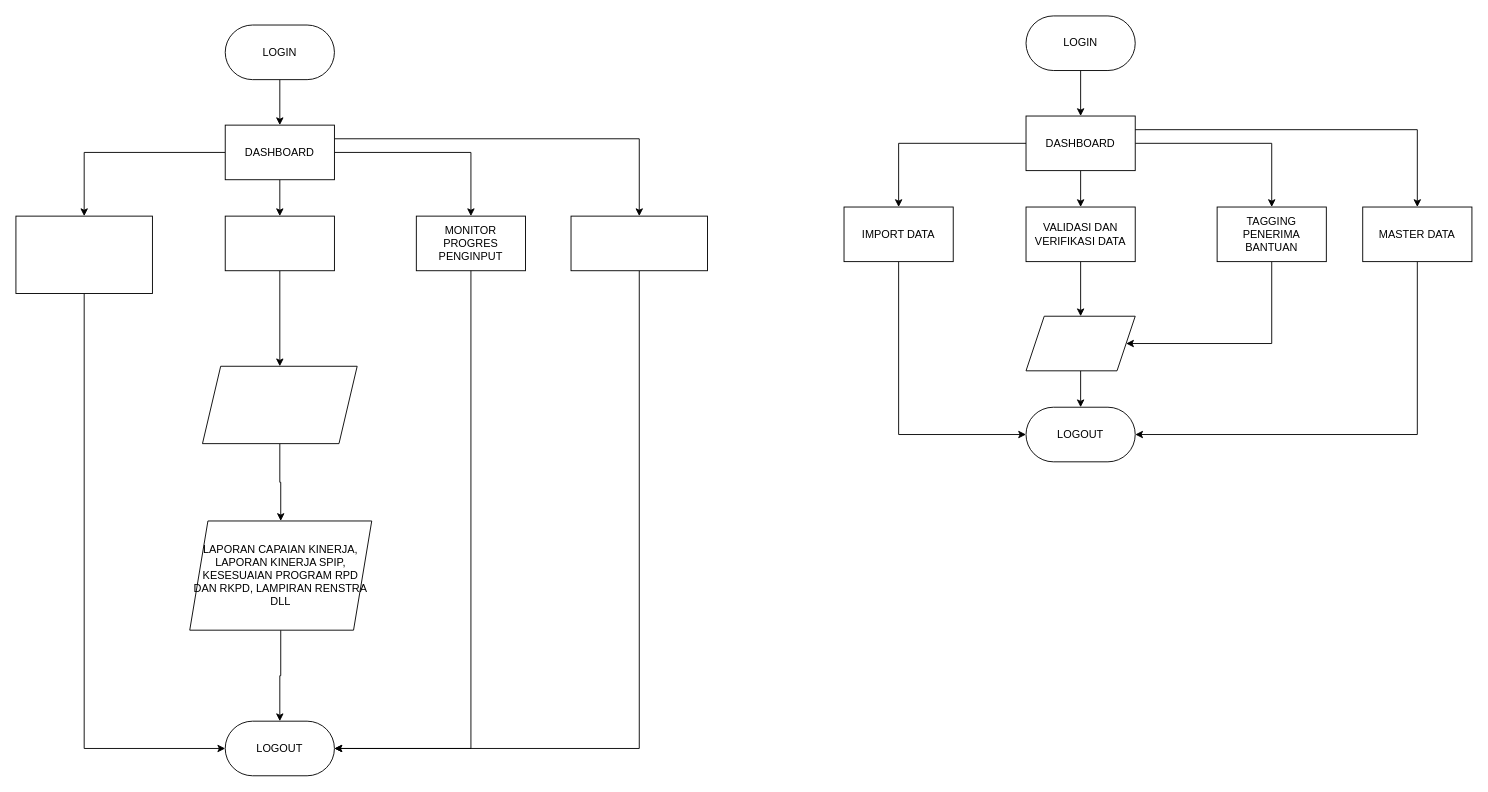
The diagram is 1488 pixels wide and 792 high, and some of its shapes have lost their labels. Each missing label, with the centre of its shape:
"INPUT DATA RPD/RPJMD/ RENSTRA/RENJA/APBD" belongs at (x=83, y=254).
"INPUT REALISASI ANGGARAN DAN KINERJA SETIAP TRIWULAN" belongs at (x=279, y=404).
"LAPORAN DAN MONITORING" belongs at (x=1080, y=343).
"MASTER DATA, PENGATURAN JADWAL" belongs at (x=639, y=243).
"MENU INPUT CAPAIAN KINERJA DAN ANGGARAN" belongs at (x=279, y=243).
